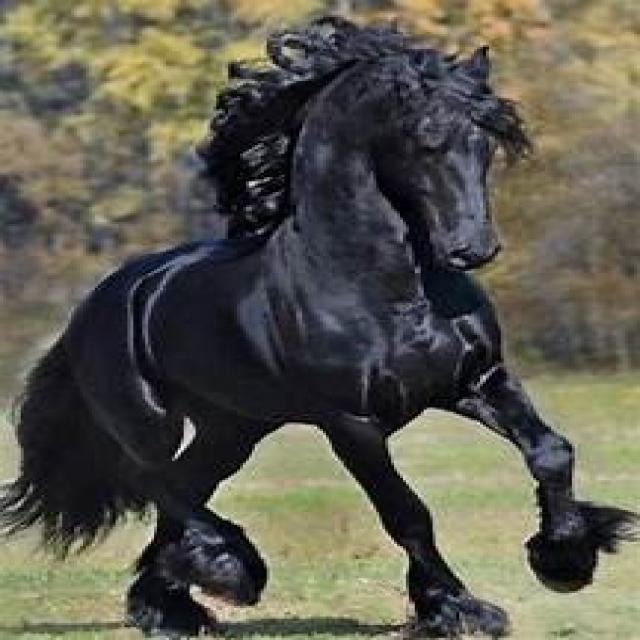horse: (0, 21, 634, 638)
